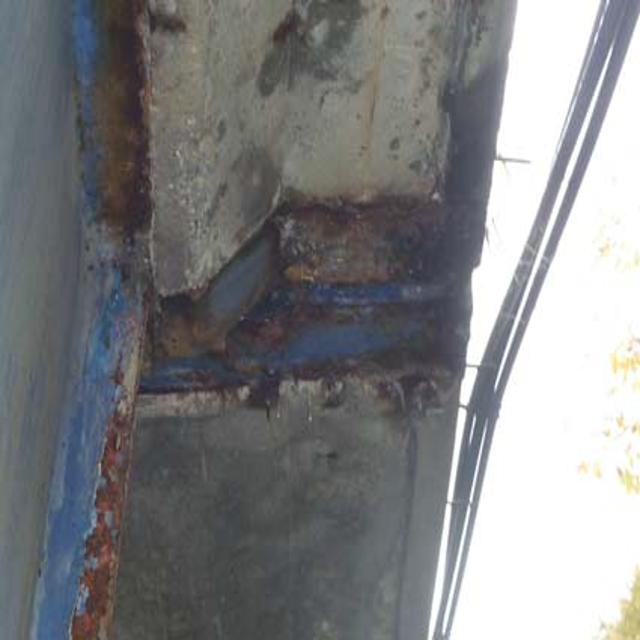corrosion: (58, 15, 461, 640)
